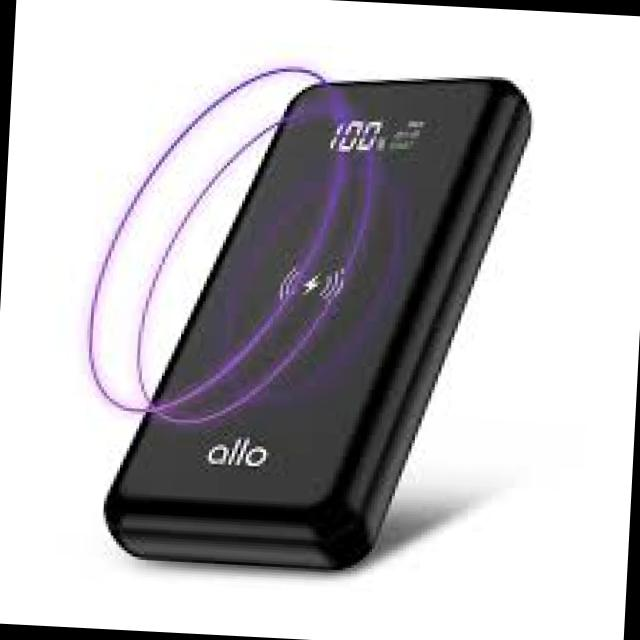portable-charger: (102, 62, 538, 586)
